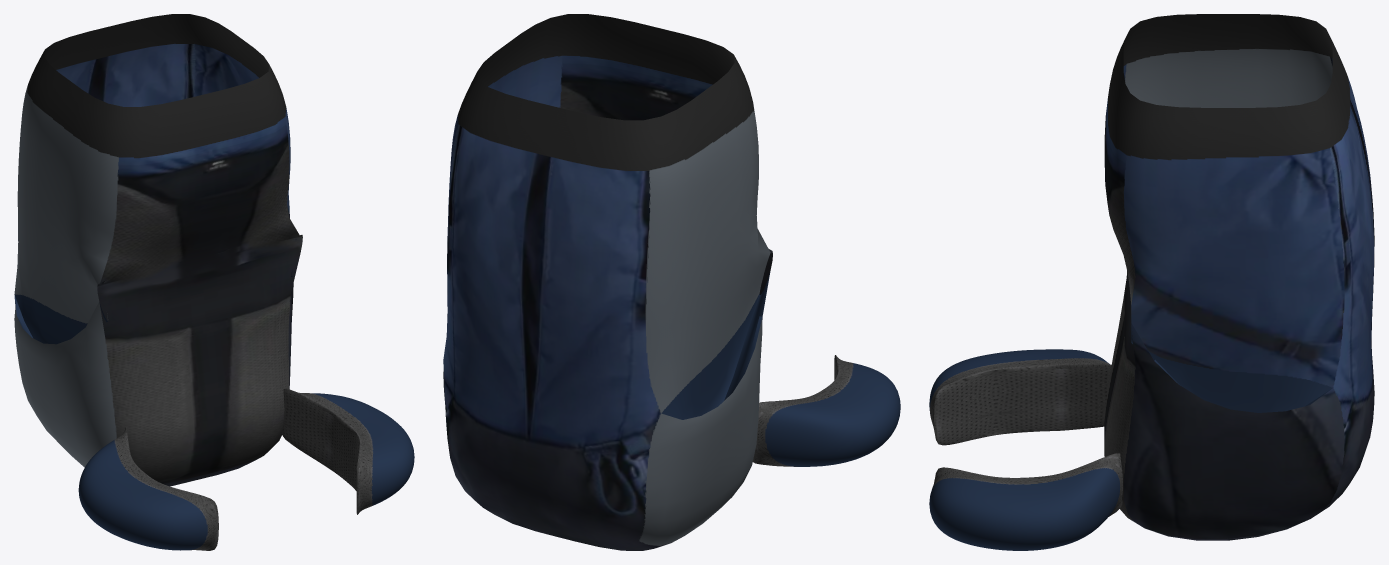
Rendered from Backpack.obj.
3 views of the same model, side by side, from view 1: azimuth 30°, elevation 25°; view 2: azimuth 150°, elevation 25°; view 3: azimuth 270°, elevation 25° (orthographic). The views are drawn at different scales.
Parts seen in each view (by area): view 1: Bag; view 2: Bag; view 3: Bag.
Boxes of the visible parts, x1,y1,x2,y2 form: Bag: [14, 14, 414, 550]; Bag: [443, 14, 900, 550]; Bag: [929, 14, 1374, 550].
Size of the model in its own units: 408 by 511 by 451.
